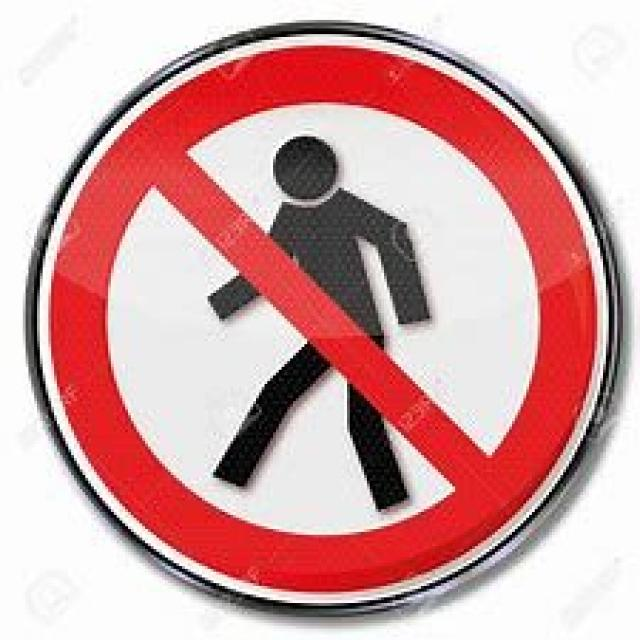PEDESTRIAN_PROHIBITED: (17, 17, 620, 614)
